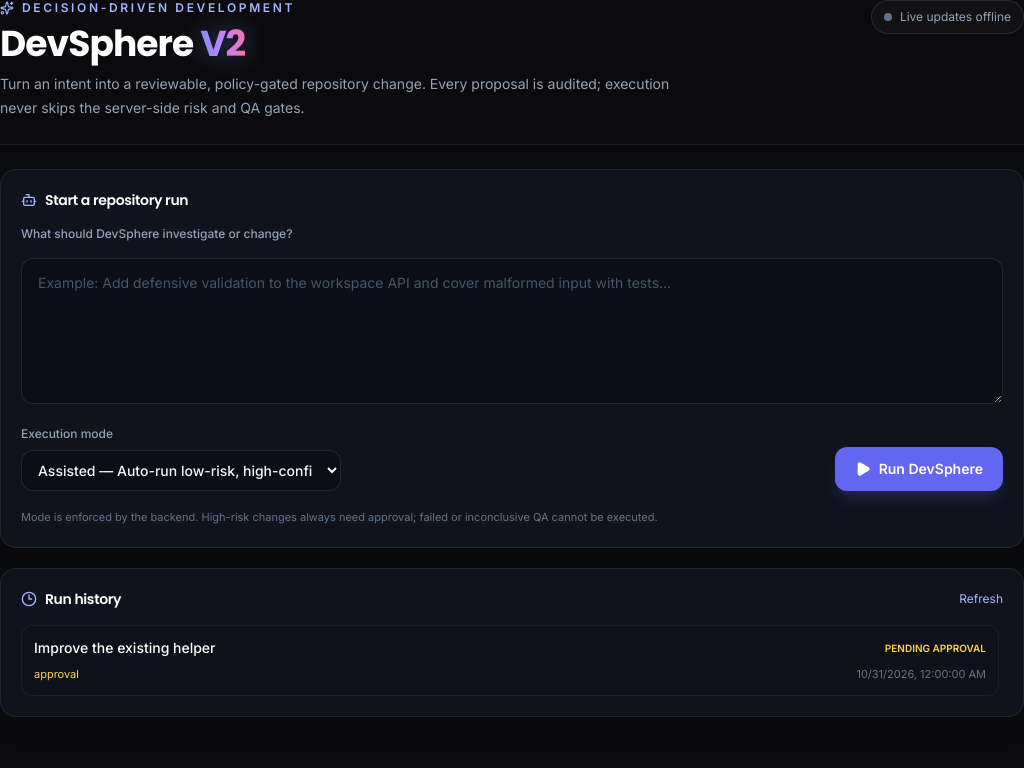
Test: events from a disconnected previous-account socket cannot repopulate the new account
Click the button "Improve the existing helper" at x=125, y=648, box [21,625,999,696]
(page scrolled)
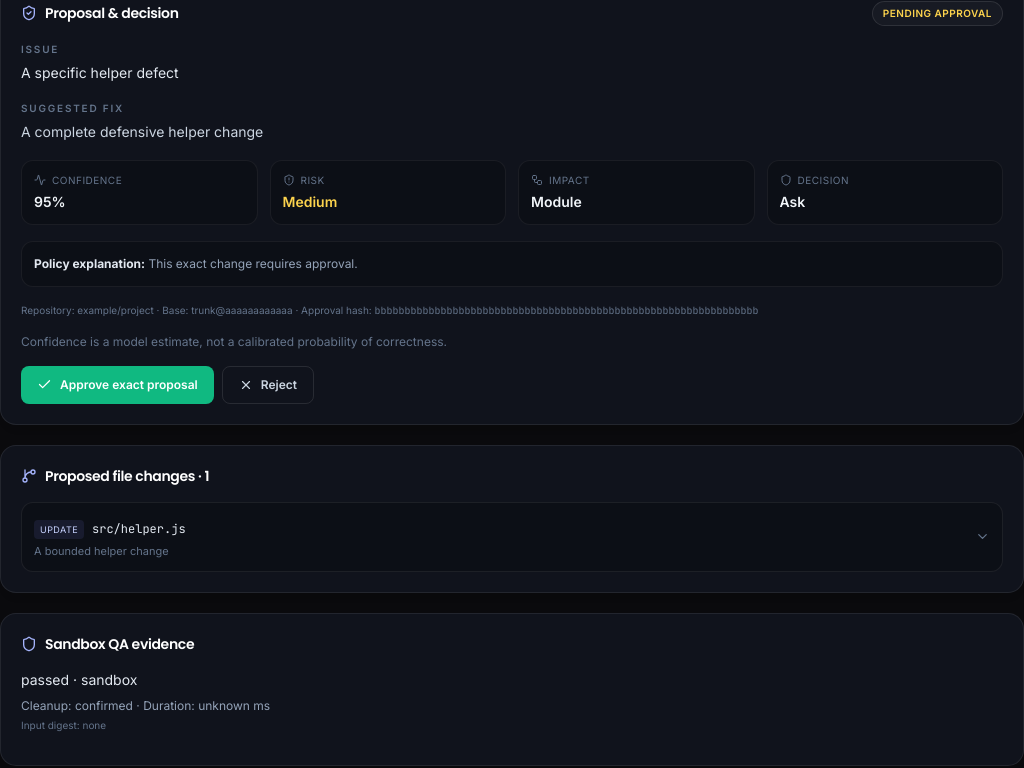
Check: the button "Approve exact proposal" is shown, box [21,366,214,404]
